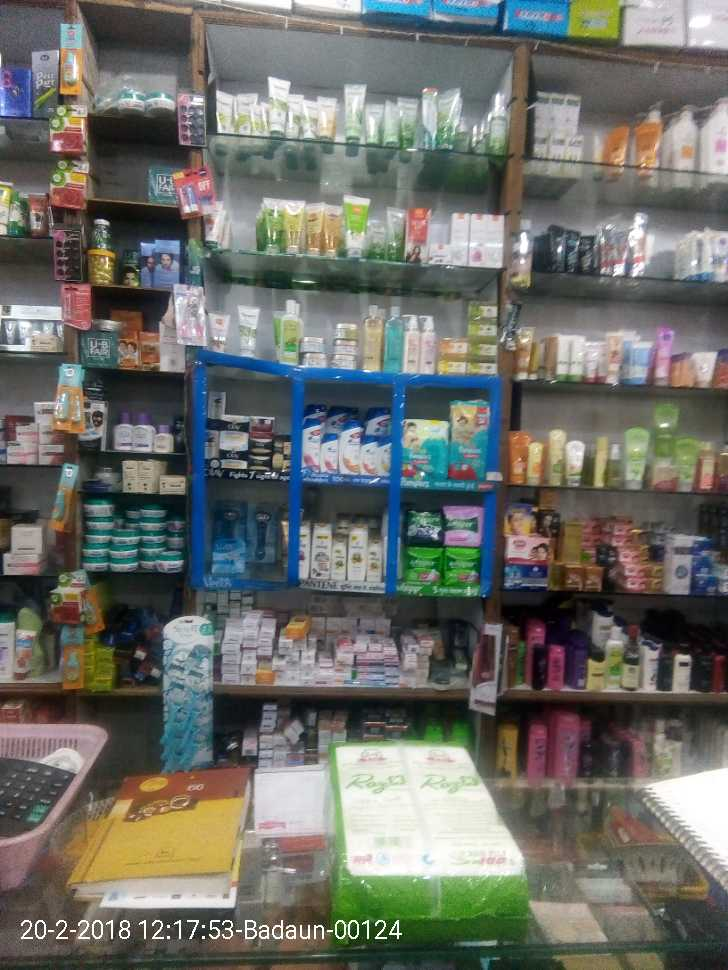venus: (156, 616, 214, 774), (250, 501, 278, 559), (211, 540, 245, 570), (215, 502, 242, 536)
